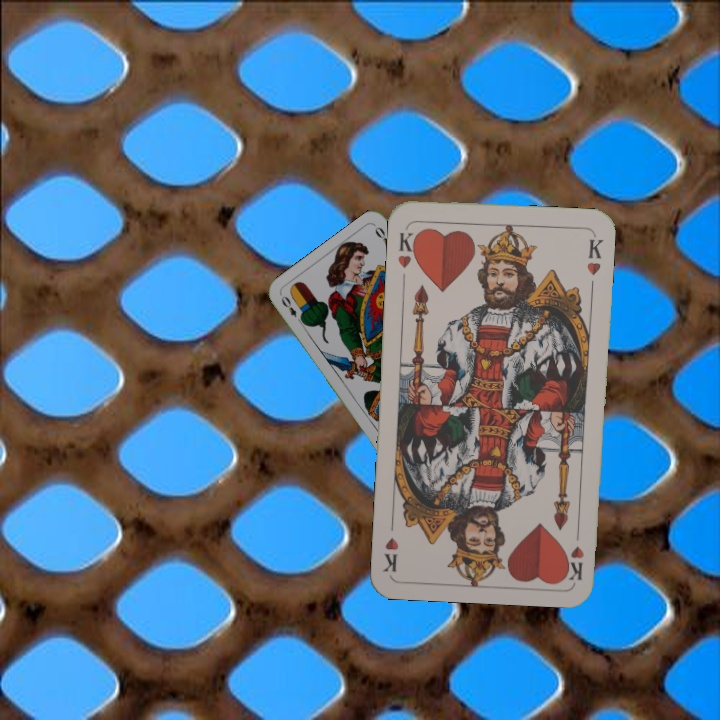EO: (277, 292, 307, 327)
HK: (563, 523, 586, 582), (393, 224, 421, 270)
